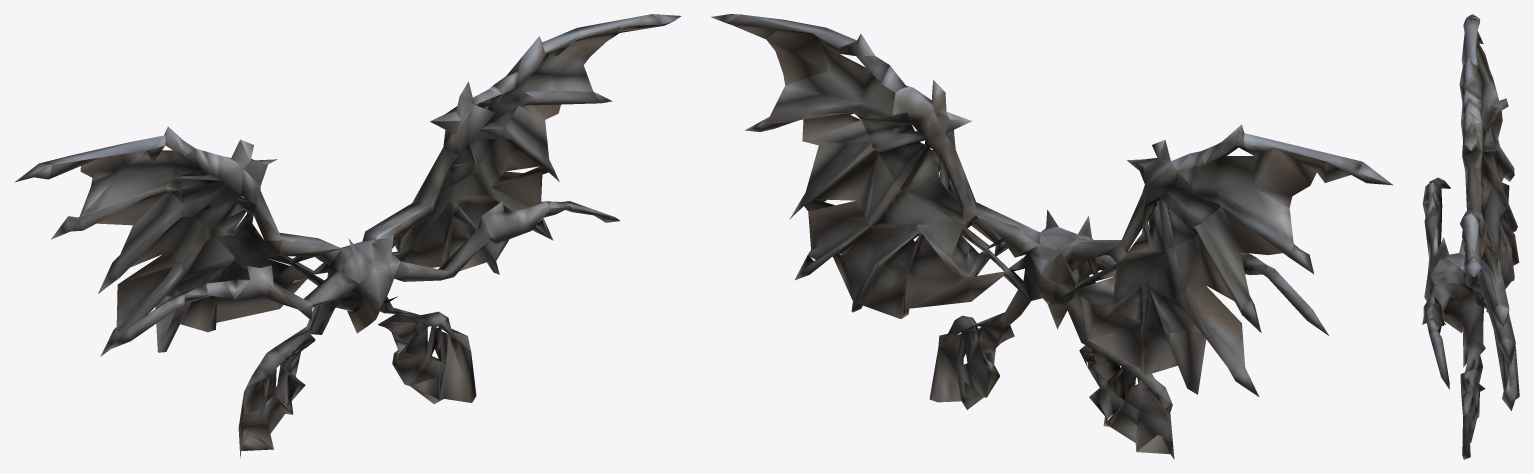
The model's file is 1500钢铁翅膀4.fbx.
3 renders of one model, left to right at view 1: azimuth 30°, elevation 25°; view 2: azimuth 150°, elevation 25°; view 3: azimuth 270°, elevation 25°, orthographic. The views are drawn at different scales.
Parts seen in each view (by area): view 1: geometry_0.004; view 2: geometry_0.004; view 3: geometry_0.004.
Part boxes in pixels (x1,y1,x2,y2): geometry_0.004: [15, 14, 681, 458]; geometry_0.004: [711, 14, 1393, 459]; geometry_0.004: [1422, 14, 1519, 459].
Size of the model in its own units: 96.02 by 47.79 by 14.9.
